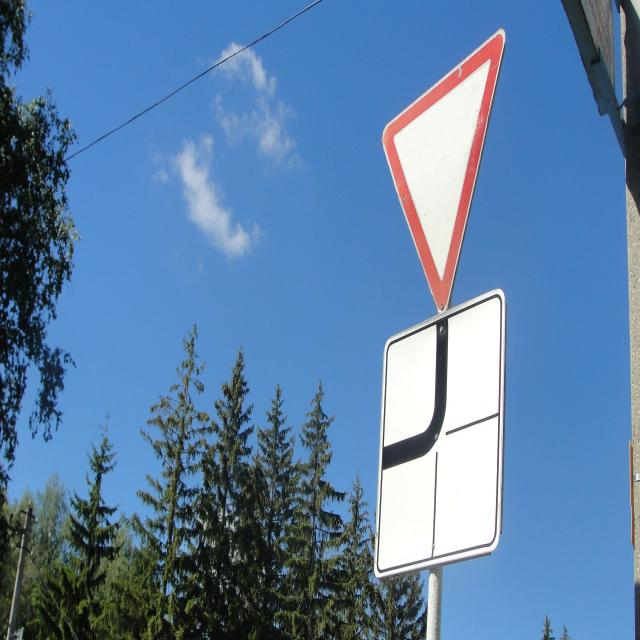Traffic sign: (361, 287, 514, 578), (374, 23, 524, 310)
